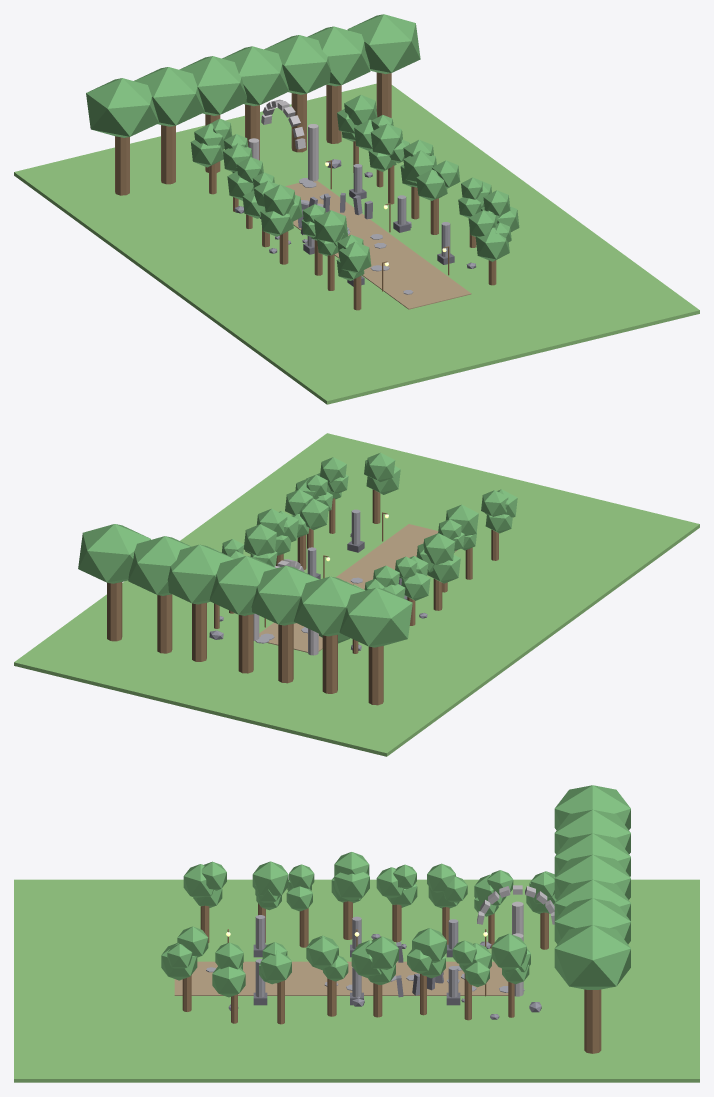
Rendered from forest.glb.
3 renders of one model, top to bottom at view 1: azimuth 30°, elevation 25°; view 2: azimuth 150°, elevation 25°; view 3: azimuth 270°, elevation 25°, orthographic. The views are drawn at different scales.
Parts seen in each view (by area): view 1: Env_Grass, Env_Leaf, Env_Bark, Env_Dirt, Env_StoneLight.001, Env_Stone.001, Env_Rock, Env_StoneDark.001; view 2: Env_Grass, Env_Leaf, Env_Bark, Env_Dirt, Env_Stone.001, Env_StoneLight.001; view 3: Env_Grass, Env_Leaf, Env_Bark, Env_Dirt, Env_Stone.001, Env_StoneLight.001, Env_Rock, Env_StoneDark.001.
Boxes of the visible parts, x1,y1,x2,y2 form: Env_Grass: (14,83,699,404); Env_Leaf: (86,14,519,280); Env_Bark: (115,72,496,310); Env_Dirt: (285,181,471,309); Env_StoneLight.001: (248,99,318,181); Env_Stone.001: (299,164,450,294); Env_Rock: (234,159,476,268); Env_StoneDark.001: (260,189,454,286); Env_Grass: (14,433,699,756); Env_Leaf: (78,452,517,647); Env_Bark: (107,489,498,705); Env_Dirt: (259,524,457,652); Env_Stone.001: (255,509,406,643); Env_StoneLight.001: (253,559,318,655); Env_Grass: (14,879,699,1082); Env_Leaf: (161,785,630,997); Env_Bark: (182,901,601,1053); Env_Dirt: (174,961,508,995); Env_Stone.001: (206,915,524,997); Env_StoneLight.001: (477,885,554,996); Env_Rock: (228,934,541,1019); Env_StoneDark.001: (253,944,460,1005).
Size of the model in its own units: 44 by 13.4 by 64.
